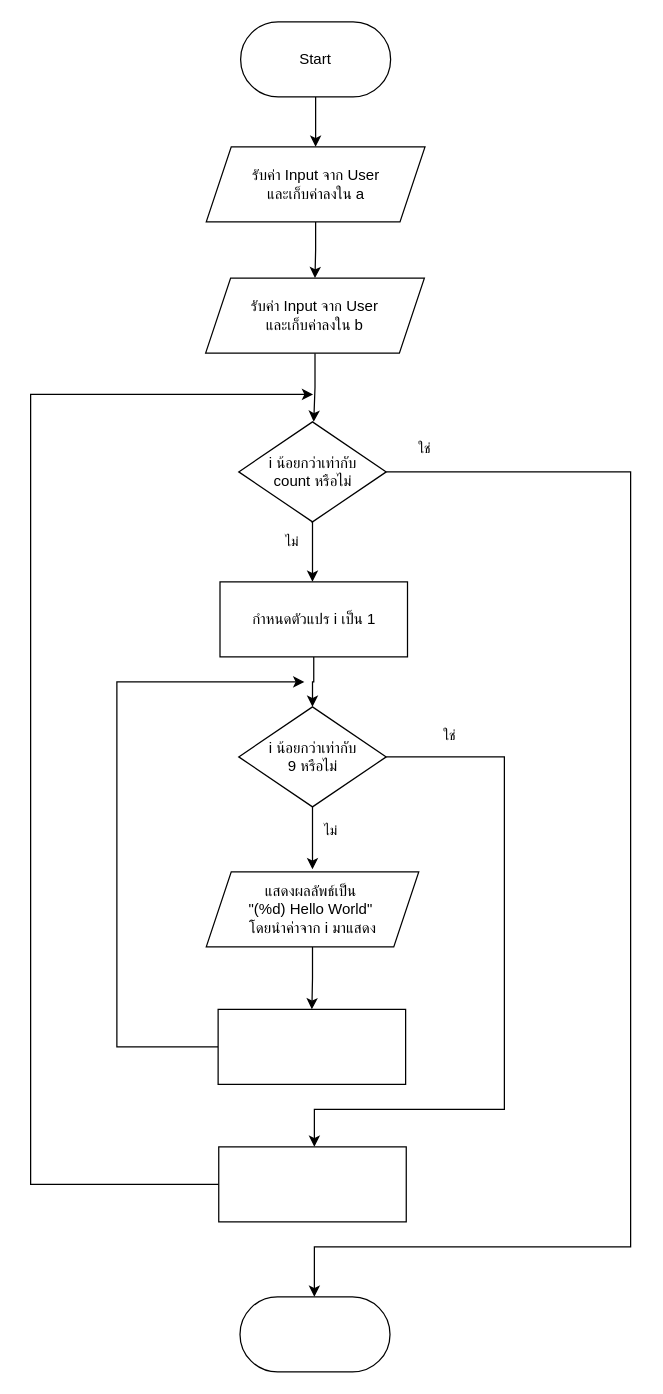
Some shapes in this 663 by 1394 pixel diagram are drawn without their labels. Here are the shapes that lost their labels. From the top down, the centre of each, then its label:
At [311,1046]: "เพิ่มจำนวนเลขในตัวแปร i".
At [312,1184]: "เพิ่มจำนวนเลขในตัวแปร a".
At [314,1334]: "End".
